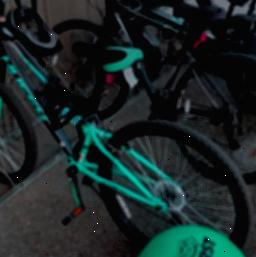algae: (131, 223, 256, 257)
